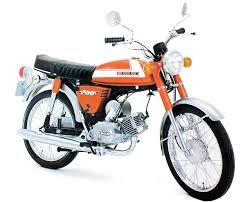motor: (14, 29, 239, 202)
